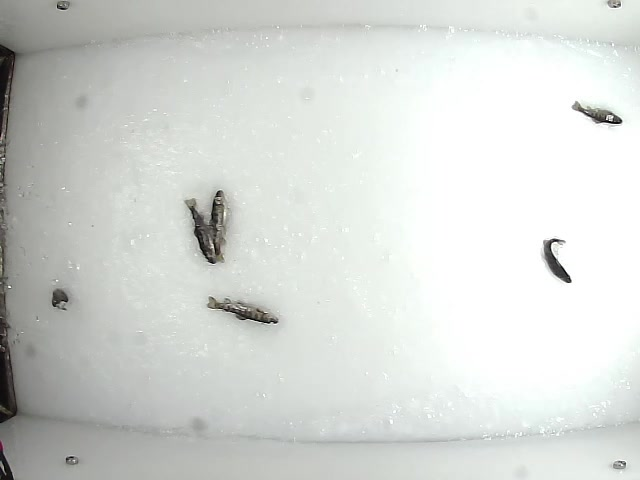fish: (182, 195, 217, 264), (204, 294, 281, 325), (206, 187, 228, 265), (539, 236, 574, 285), (570, 98, 625, 125), (49, 285, 71, 312)
